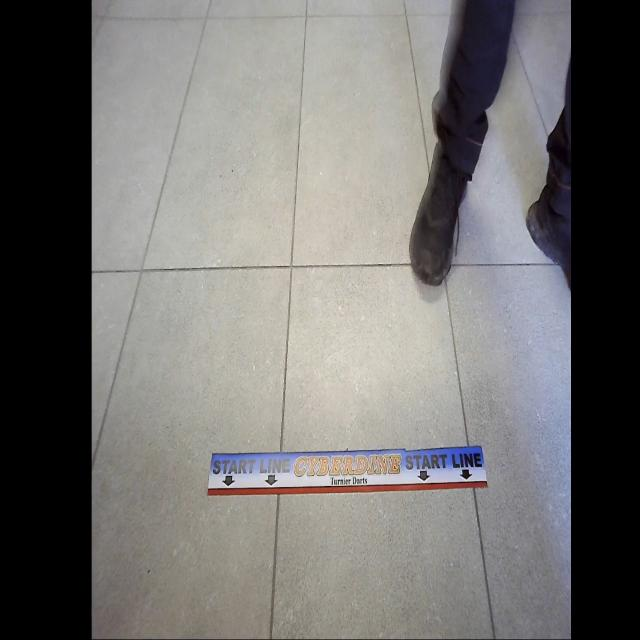foot: (408, 139, 469, 286)
